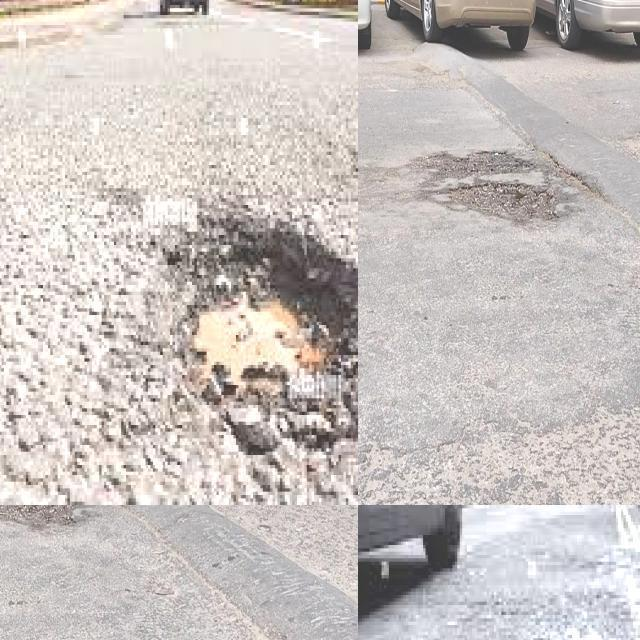Pothole: (175, 232, 358, 475), (424, 149, 550, 226), (0, 505, 67, 531)
